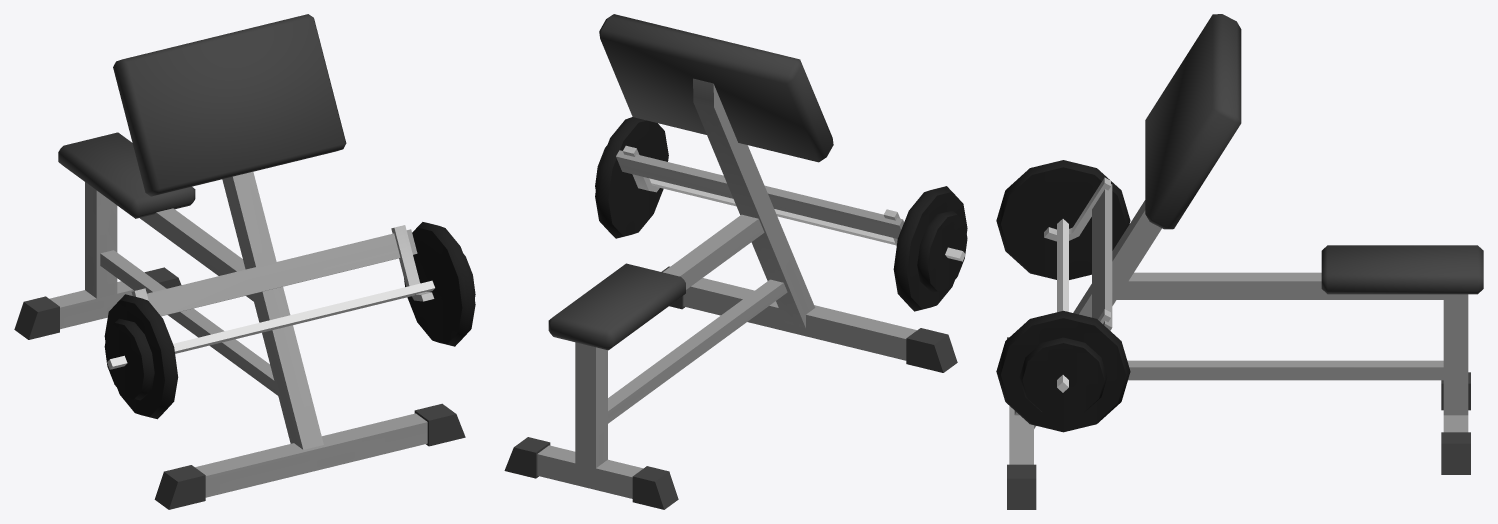
The model's file is training_item_019.glb.
3 renders of one model, left to right at view 1: azimuth 30°, elevation 25°; view 2: azimuth 150°, elevation 25°; view 3: azimuth 270°, elevation 25°, orthographic. The views are drawn at different scales.
Visible parts, largest first — view 1: training_item_019; view 2: training_item_019; view 3: training_item_019.
Part boxes in pixels (<box>): training_item_019: <box>14,14,475,509</box>; training_item_019: <box>504,14,967,509</box>; training_item_019: <box>996,14,1483,509</box>.
Bounding box in the file's own units: 1.14 × 1.09 × 1.28.
1 material, 1 textured.
